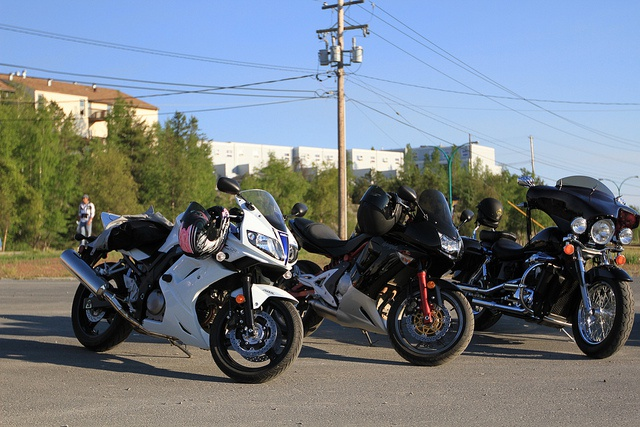non-vehicle: (59, 179, 305, 383), (283, 185, 475, 367), (457, 173, 638, 357)
